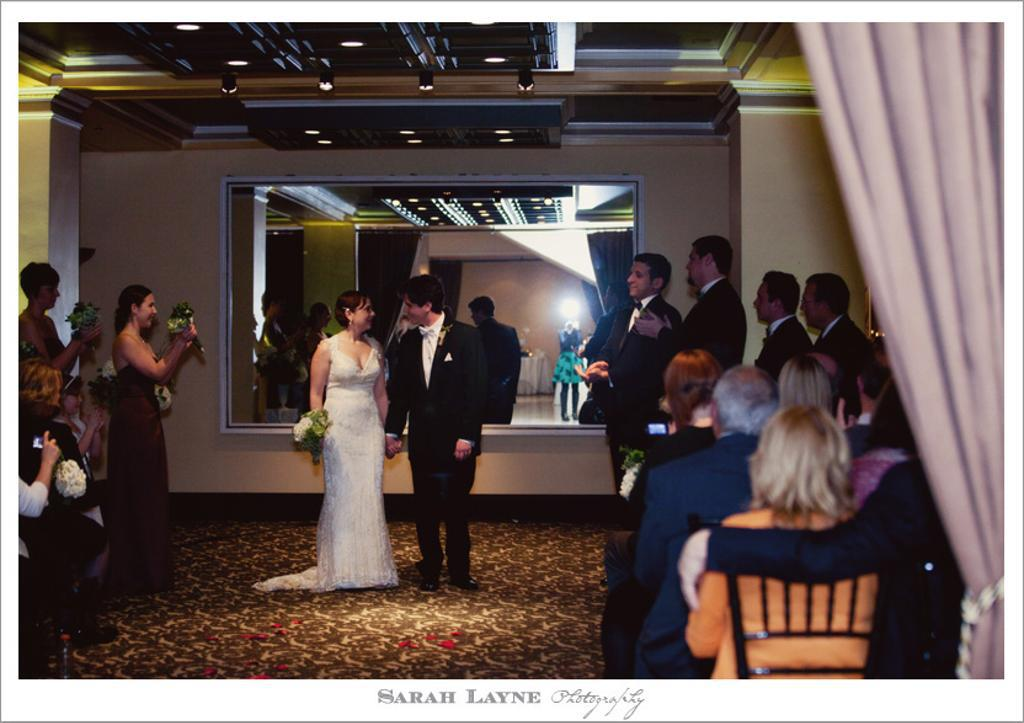face: (686, 248, 714, 287), (628, 263, 659, 298), (801, 284, 826, 327), (754, 284, 780, 321), (133, 297, 158, 328), (38, 276, 61, 309), (354, 296, 376, 330), (404, 292, 425, 325), (63, 389, 84, 415), (270, 298, 286, 316), (472, 304, 484, 325), (317, 309, 331, 326)
